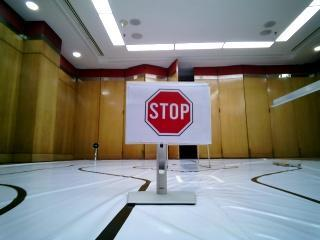stop: (133, 83, 204, 133)
